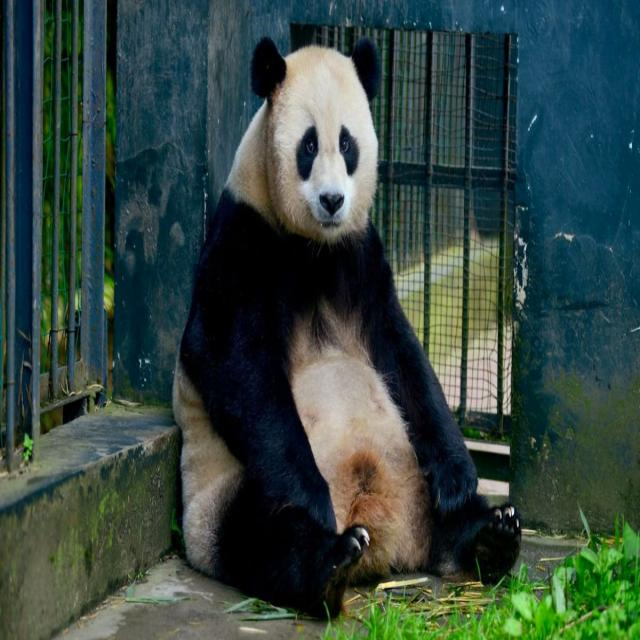panda: (173, 38, 522, 617)
